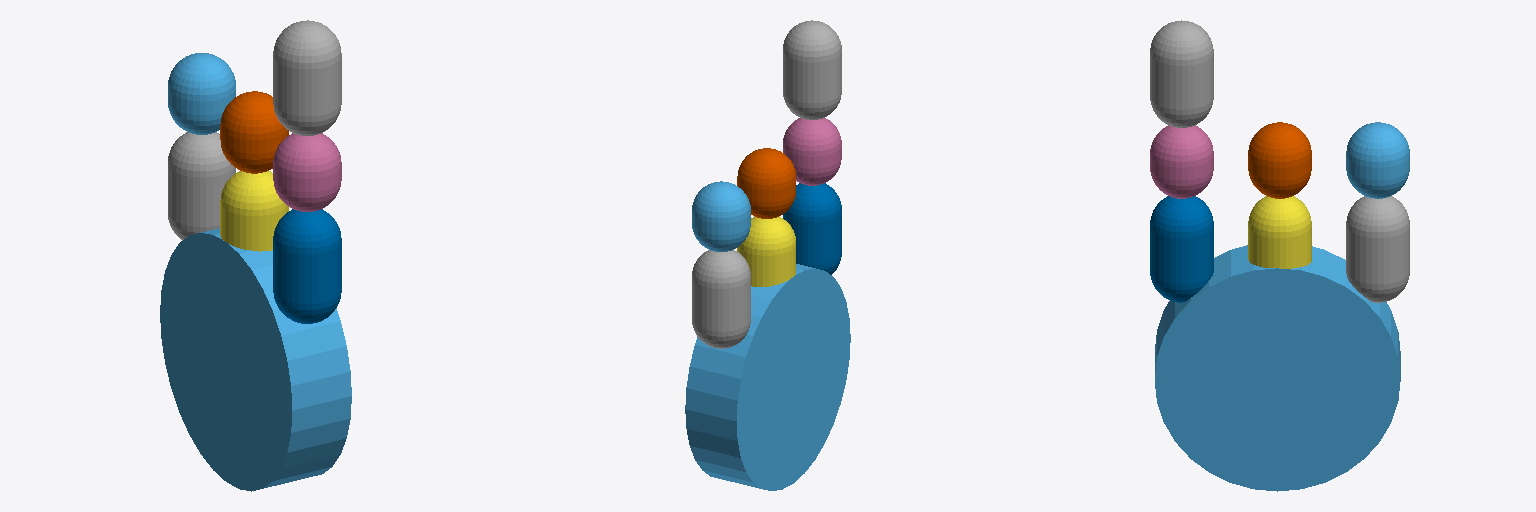
URDF robot description (DexterousHand):
<?xml version="1.0"?>
<robot name="DexterousHand">


    <link name="world"/>
    <joint name="world_to_palm" type="fixed">
        <parent link="world"/>
        <child link="palm"/>
        <origin xyz="0 0 0" rpy="0 0 0"/>
    </joint>
    <link name="palm">
        <inertial>
            <origin xyz="0 0 0.057" rpy="0 0 0"/>
            <mass value="0.30212892864"/>
            <inertia ixx="0.00049080844457568" ixy="0.0" ixz="0.0" iyy="0.00026746366246427523" iyz="0.0" izz="0.00026746366246427523"/>
        </inertial>
        <visual>
            <origin xyz="0 0 0.057" rpy="1.5708 0 1.5708"/>
            <geometry>
                <cylinder radius="0.057" length="0.0296"/>
            </geometry>
            <material name="default"/>
        </visual>
        <collision>
            <origin xyz="0 0 0.057" rpy="1.5708 0 1.5708"/>
            <geometry>
                <cylinder radius="0.057" length="0.0296"/>
            </geometry>
        </collision>
    </link>

    
    <joint name="thumb_joint1" type="revolute">
        <parent link="palm"/>
        <child link="thumb_base"/>
        <origin xyz="0.0 0.0 0.0" rpy="0.0 0.0 0.0"/>
        <axis xyz="1 0 0"/>
        <limit lower="0.0" upper="0.0" effort="1.0" velocity="1.0"/>
    </joint>

    <link name="thumb_base"></link>

    <joint name="thumb_joint2" type="revolute">
        <parent link="thumb_base"/>
        <child link="thumb_proximal"/>
        <origin xyz="0.0 0.0 0.0" rpy="0.0 0.0 0.0"/>
        <axis xyz="0 1 0"/>
        <limit lower="0.0" upper="0.0" effort="1.0" velocity="1.0"/>
    </joint>

    <link name="thumb_proximal">
    </link>

    <joint name="thumb_joint3" type="revolute">
        <parent link="thumb_proximal"/>
        <child link="thumb_knuckle"/>
        <origin xyz="0.0 0.0 0.0" rpy="0.0 0.0 0.0"/>
        <axis xyz="1 0 0"/>
        <limit lower="0.0" upper="0.0" effort="1.0" velocity="1.0"/>
    </joint>

    <link name="thumb_knuckle"></link>

    <joint name="thumb_joint4" type="revolute">
        <parent link="thumb_knuckle"/>
        <child link="thumb_middle"/>
        <origin xyz="0 0 0" rpy="0 0 0"/> 
        <axis xyz="0 1 0"/>
        <limit lower="0.0" upper="0.0" effort="1.0" velocity="1.0"/>
    </joint>

    <link name="thumb_middle">
    </link>

    <joint name="thumb_joint5" type="revolute">
        <parent link="thumb_middle"/>
        <child link="thumb_distal"/>
        <origin xyz="0 0 0" rpy="0 0 0"/> 
        <axis xyz="0 1 0"/>
        <limit lower="0.0" upper="0.0" effort="1.0" velocity="1.0"/>
    </joint>

    <link name="thumb_distal">
    </link>

    
    <joint name="index_joint1" type="revolute">
        <parent link="palm"/>
        <child link="index_proximal"/>
        <origin xyz="0.0 0.0465 0.091" rpy="0.0 0.0 0.0"/>
        <axis xyz="0 1 0"/>
        <limit lower="-0.314" upper="2.23" effort="1.0" velocity="1.0"/>
    </joint>

    <link name="index_proximal">
        <inertial>
            <origin xyz="0 0 0.02655" rpy="0 0 0"/>
            <mass value="0.036540024998400006"/>
            <inertia ixx="1.058665009272394e-05" ixy="0.0" ixz="0.0" 
            iyy="1.058665009272394e-05" iyz="0.0" izz="4.001863537824769e-06"/>
        </inertial>
        <visual>
            <origin xyz="0 0 0.02655" rpy="0 0 0"/>
            <geometry>
                <cylinder radius="0.0148" length="0.0235"/>
            </geometry>
            <material name="default"/>
        </visual>
        <visual>
            <origin xyz="0 0 0.0148" rpy="0 0 0"/>
            <geometry>
                <sphere radius="0.0148"/>
            </geometry>
            <material name="default"/>
        </visual>
        <visual>
            <origin xyz="0 0 0.0383" rpy="0 0 0"/>
            <geometry>
                <sphere radius="0.0148"/>
            </geometry>
            <material name="default"/>
        </visual>
        <collision>
            <origin xyz="0 0 0.02655" rpy="0 0 0"/>
            <geometry>
                <cylinder radius="0.0148" length="0.0235"/>
            </geometry>
        </collision>
        <collision>
            <origin xyz="0 0 0.0148" rpy="0 0 0"/>
            <geometry>
                <sphere radius="0.0148"/>
            </geometry>
        </collision>
        <collision>
            <origin xyz="0 0 0.0383" rpy="0 0 0"/>
            <geometry>
                <sphere radius="0.0148"/>
            </geometry>
        </collision>
    </link>

    <joint name="index_joint2" type="revolute">
        <parent link="index_proximal"/>
        <child link="index_dummy"/>
        <origin xyz="0.0 0.0 0.038" rpy="0.0 0.0 0.0"/>
        <axis xyz="1 0 0"/>
        <limit lower="-1.047" upper="1.047" effort="1.0" velocity="1.0"/>
    </joint>

    <link name="index_dummy"></link>

    <joint name="index_joint3" type="revolute">
        <parent link="index_dummy"/>
        <child link="index_middle"/>
        <origin xyz="0 0 0.015100000000000002" rpy="0 0 0"/>
        <axis xyz="0 1 0"/>
        <limit lower="-0.506" upper="1.885" effort="1.0" velocity="1.0"/>
    </joint>

    <link name="index_middle">
        <inertial>
            <origin xyz="0 0 0.01805" rpy="0 0 0"/>
            <mass value="0.0248417119104"/>
            <inertia ixx="4.058162759109537e-06" ixy="0.0" ixz="0.0" 
            iyy="4.058162759109537e-06" iyz="0.0" izz="2.7206642884270085e-06"/>
        </inertial>
        <visual>
            <origin xyz="0 0 0.01805" rpy="0 0 0"/>
            <geometry>
                <cylinder radius="0.0148" length="0.006499999999999999"/>
            </geometry>
            <material name="default"/>
        </visual>
        <visual>
            <origin xyz="0 0 0.0148" rpy="0 0 0"/>
            <geometry>
                <sphere radius="0.0148"/>
            </geometry>
            <material name="default"/>
        </visual>
        <visual>
            <origin xyz="0 0 0.0213" rpy="0 0 0"/>
            <geometry>
                <sphere radius="0.0148"/>
            </geometry>
            <material name="default"/>
        </visual>
        <collision>
            <origin xyz="0 0 0.01805" rpy="0 0 0"/>
            <geometry>
                <cylinder radius="0.0148" length="0.006499999999999999"/>
            </geometry>
        </collision>
        <collision>
            <origin xyz="0 0 0.0148" rpy="0 0 0"/>
            <geometry>
                <sphere radius="0.0148"/>
            </geometry>
        </collision>
        <collision>
            <origin xyz="0 0 0.0213" rpy="0 0 0"/>
            <geometry>
                <sphere radius="0.0148"/>
            </geometry>
        </collision>
    </link>

    <joint name="index_joint4" type="revolute">
        <parent link="index_middle"/>
        <child link="index_distal"/>
        <origin xyz="0 0 0.0361" rpy="0 0 0"/> 
        <axis xyz="0 1 0"/>
        <limit lower="0.0" upper="0.0" effort="1.0" velocity="1.0"/>
    </joint>

    <link name="index_distal">
    </link>

    
    <joint name="middle_joint1" type="revolute">
        <parent link="palm"/>
        <child link="middle_proximal"/>
        <origin xyz="0.0 0.0011 0.091" rpy="0.0 0.0 0.0"/>
        <axis xyz="0 1 0"/>
        <limit lower="-0.314" upper="2.23" effort="1.0" velocity="1.0"/>
    </joint>

    <link name="middle_proximal">
        <inertial>
            <origin xyz="0 0 0.02655" rpy="0 0 0"/>
            <mass value="0.036540024998400006"/>
            <inertia ixx="1.058665009272394e-05" ixy="0.0" ixz="0.0" 
            iyy="1.058665009272394e-05" iyz="0.0" izz="4.001863537824769e-06"/>
        </inertial>
        <visual>
            <origin xyz="0 0 0.02655" rpy="0 0 0"/>
            <geometry>
                <cylinder radius="0.0148" length="0.0235"/>
            </geometry>
            <material name="default"/>
        </visual>
        <visual>
            <origin xyz="0 0 0.0148" rpy="0 0 0"/>
            <geometry>
                <sphere radius="0.0148"/>
            </geometry>
            <material name="default"/>
        </visual>
        <visual>
            <origin xyz="0 0 0.0383" rpy="0 0 0"/>
            <geometry>
                <sphere radius="0.0148"/>
            </geometry>
            <material name="default"/>
        </visual>
        <collision>
            <origin xyz="0 0 0.02655" rpy="0 0 0"/>
            <geometry>
                <cylinder radius="0.0148" length="0.0235"/>
            </geometry>
        </collision>
        <collision>
            <origin xyz="0 0 0.0148" rpy="0 0 0"/>
            <geometry>
                <sphere radius="0.0148"/>
            </geometry>
        </collision>
        <collision>
            <origin xyz="0 0 0.0383" rpy="0 0 0"/>
            <geometry>
                <sphere radius="0.0148"/>
            </geometry>
        </collision>
    </link>

    <joint name="middle_joint2" type="revolute">
        <parent link="middle_proximal"/>
        <child link="middle_dummy"/>
        <origin xyz="0.0 0.0 0.038" rpy="0.0 0.0 0.0"/>
        <axis xyz="1 0 0"/>
        <limit lower="-1.047" upper="1.047" effort="1.0" velocity="1.0"/>
    </joint>

    <link name="middle_dummy"></link>

    <joint name="middle_joint3" type="revolute">
        <parent link="middle_dummy"/>
        <child link="middle_middle"/>
        <origin xyz="0 0 0.015100000000000002" rpy="0 0 0"/>
        <axis xyz="0 1 0"/>
        <limit lower="-0.506" upper="1.885" effort="1.0" velocity="1.0"/>
    </joint>

    <link name="middle_middle">
        <inertial>
            <origin xyz="0 0 0.01805" rpy="0 0 0"/>
            <mass value="0.0248417119104"/>
            <inertia ixx="4.058162759109537e-06" ixy="0.0" ixz="0.0" 
            iyy="4.058162759109537e-06" iyz="0.0" izz="2.7206642884270085e-06"/>
        </inertial>
        <visual>
            <origin xyz="0 0 0.01805" rpy="0 0 0"/>
            <geometry>
                <cylinder radius="0.0148" length="0.006499999999999999"/>
            </geometry>
            <material name="default"/>
        </visual>
        <visual>
            <origin xyz="0 0 0.0148" rpy="0 0 0"/>
            <geometry>
                <sphere radius="0.0148"/>
            </geometry>
            <material name="default"/>
        </visual>
        <visual>
            <origin xyz="0 0 0.0213" rpy="0 0 0"/>
            <geometry>
                <sphere radius="0.0148"/>
            </geometry>
            <material name="default"/>
        </visual>
        <collision>
            <origin xyz="0 0 0.01805" rpy="0 0 0"/>
            <geometry>
                <cylinder radius="0.0148" length="0.006499999999999999"/>
            </geometry>
        </collision>
        <collision>
            <origin xyz="0 0 0.0148" rpy="0 0 0"/>
            <geometry>
                <sphere radius="0.0148"/>
            </geometry>
        </collision>
        <collision>
            <origin xyz="0 0 0.0213" rpy="0 0 0"/>
            <geometry>
                <sphere radius="0.0148"/>
            </geometry>
        </collision>
    </link>

    <joint name="middle_joint4" type="revolute">
        <parent link="middle_middle"/>
        <child link="middle_distal"/>
        <origin xyz="0 0 0.0361" rpy="0 0 0"/> 
        <axis xyz="0 1 0"/>
        <limit lower="0.0" upper="0.0" effort="1.0" velocity="1.0"/>
    </joint>

    <link name="middle_distal">
    </link>

    
    <joint name="ring_joint1" type="revolute">
        <parent link="palm"/>
        <child link="ring_proximal"/>
        <origin xyz="0.0 0.0 0.0" rpy="0.0 0.0 0.0"/>
        <axis xyz="1 0 0"/>
        <limit lower="0.0" upper="0.0" effort="1.0" velocity="1.0"/>
    </joint>

    <link name="ring_proximal">
    </link>

    <joint name="ring_joint2" type="revolute">
        <parent link="ring_proximal"/>
        <child link="ring_dummy"/>
        <origin xyz="0.0 0.0 0.0" rpy="0.0 0.0 0.0"/>
        <axis xyz="0 1 0"/>
        <limit lower="0.0" upper="0.0" effort="1.0" velocity="1.0"/>
    </joint>

    <link name="ring_dummy"></link>

    <joint name="ring_joint3" type="revolute">
        <parent link="ring_dummy"/>
        <child link="ring_middle"/>
        <origin xyz="0 0 0" rpy="0 0 0"/>
        <axis xyz="0 1 0"/>
        <limit lower="0.0" upper="0.0" effort="1.0" velocity="1.0"/>
    </joint>

    <link name="ring_middle">
    </link>

    <joint name="ring_joint4" type="revolute">
        <parent link="ring_middle"/>
        <child link="ring_distal"/>
        <origin xyz="0 0 0" rpy="0 0 0"/> 
        <axis xyz="0 1 0"/>
        <limit lower="0.0" upper="0.0" effort="1.0" velocity="1.0"/>
    </joint>

    <link name="ring_distal">
    </link>

    
    <joint name="little_joint0" type="revolute">
        <parent link="palm"/>
        <child link="little_base"/>
        <origin xyz="0.0 0.0 0.0" rpy="0.0 0.0 0.0"/>
        <axis xyz="0 1 0"/>
        <limit lower="0.0" upper="0.0" effort="1.0" velocity="1.0"/>
    </joint>

    <link name="little_base"></link>

    <joint name="little_joint1" type="revolute">
        <parent link="little_base"/>
        <child link="little_proximal"/>
        <origin xyz="0.0 -0.0443 0.091" rpy="-0.0 -0.0 -0.0"/>
        <axis xyz="0 1 0"/>
        <limit lower="-0.314" upper="2.23" effort="1.0" velocity="1.0"/>
    </joint>

    <link name="little_proximal">
        <inertial>
            <origin xyz="0 0 0.02655" rpy="0 0 0"/>
            <mass value="0.036540024998400006"/>
            <inertia ixx="1.058665009272394e-05" ixy="0.0" ixz="0.0" 
            iyy="1.058665009272394e-05" iyz="0.0" izz="4.001863537824769e-06"/>
        </inertial>
        <visual>
            <origin xyz="0 0 0.02655" rpy="0 0 0"/>
            <geometry>
                <cylinder radius="0.0148" length="0.0235"/>
            </geometry>
            <material name="default"/>
        </visual>
        <visual>
            <origin xyz="0 0 0.0148" rpy="0 0 0"/>
            <geometry>
                <sphere radius="0.0148"/>
            </geometry>
            <material name="default"/>
        </visual>
        <visual>
            <origin xyz="0 0 0.0383" rpy="0 0 0"/>
            <geometry>
                <sphere radius="0.0148"/>
            </geometry>
            <material name="default"/>
        </visual>
        <collision>
            <origin xyz="0 0 0.02655" rpy="0 0 0"/>
            <geometry>
                <cylinder radius="0.0148" length="0.0235"/>
            </geometry>
        </collision>
        <collision>
            <origin xyz="0 0 0.0148" rpy="0 0 0"/>
            <geometry>
                <sphere radius="0.0148"/>
            </geometry>
        </collision>
        <collision>
            <origin xyz="0 0 0.0383" rpy="0 0 0"/>
            <geometry>
                <sphere radius="0.0148"/>
            </geometry>
        </collision>
    </link>

    <joint name="little_joint2" type="revolute">
        <parent link="little_proximal"/>
        <child link="little_dummy"/>
        <origin xyz="0.0 0.0 0.038" rpy="0.0 0.0 0.0"/>
        <axis xyz="1 0 0"/>
        <limit lower="-1.047" upper="1.047" effort="1.0" velocity="1.0"/>
    </joint>

    <link name="little_dummy"></link>

    <joint name="little_joint3" type="revolute">
        <parent link="little_dummy"/>
        <child link="little_middle"/>
        <origin xyz="0 0 0.015100000000000002" rpy="0 0 0"/>
        <axis xyz="0 1 0"/>
        <limit lower="-0.506" upper="1.885" effort="1.0" velocity="1.0"/>
    </joint>

    <link name="little_middle">
        <inertial>
            <origin xyz="0 0 0.01805" rpy="0 0 0"/>
            <mass value="0.0248417119104"/>
            <inertia ixx="4.058162759109537e-06" ixy="0.0" ixz="0.0" 
            iyy="4.058162759109537e-06" iyz="0.0" izz="2.7206642884270085e-06"/>
        </inertial>
        <visual>
            <origin xyz="0 0 0.01805" rpy="0 0 0"/>
            <geometry>
                <cylinder radius="0.0148" length="0.006499999999999999"/>
            </geometry>
            <material name="default"/>
        </visual>
        <visual>
            <origin xyz="0 0 0.0148" rpy="0 0 0"/>
            <geometry>
                <sphere radius="0.0148"/>
            </geometry>
            <material name="default"/>
        </visual>
        <visual>
            <origin xyz="0 0 0.0213" rpy="0 0 0"/>
            <geometry>
                <sphere radius="0.0148"/>
            </geometry>
            <material name="default"/>
        </visual>
        <collision>
            <origin xyz="0 0 0.01805" rpy="0 0 0"/>
            <geometry>
                <cylinder radius="0.0148" length="0.006499999999999999"/>
            </geometry>
        </collision>
        <collision>
            <origin xyz="0 0 0.0148" rpy="0 0 0"/>
            <geometry>
                <sphere radius="0.0148"/>
            </geometry>
        </collision>
        <collision>
            <origin xyz="0 0 0.0213" rpy="0 0 0"/>
            <geometry>
                <sphere radius="0.0148"/>
            </geometry>
        </collision>
    </link>

    <joint name="little_joint4" type="revolute">
        <parent link="little_middle"/>
        <child link="little_distal"/>
        <origin xyz="0 0 0.0361" rpy="0 0 0"/>
        <axis xyz="0 1 0"/>
        <limit lower="-0.366" upper="2.042" effort="1.0" velocity="1.0"/>
    </joint>

    <link name="little_distal">
        <inertial>
            <origin xyz="0 0 0.026" rpy="0 0 0"/>
            <mass value="0.035783075328"/>
            <inertia ixx="1.002260084553728e-05" ixy="0.0" ixz="0.0" 
            iyy="1.002260084553728e-05" iyz="0.0" izz="3.91896240992256e-06"/>
        </inertial>
        <visual>
            <origin xyz="0 0 0.026" rpy="0 0 0"/>
            <geometry>
                <cylinder radius="0.0148" length="0.022399999999999996"/>
            </geometry>
            <material name="default"/>
        </visual>
        <visual>
            <origin xyz="0 0 0.0148" rpy="0 0 0"/>
            <geometry>
                <sphere radius="0.0148"/>
            </geometry>
            <material name="default"/>
        </visual>
        <visual>
            <origin xyz="0 0 0.0372" rpy="0 0 0"/>
            <geometry>
                <sphere radius="0.0148"/>
            </geometry>
            <material name="default"/>
        </visual>
        <collision>
            <origin xyz="0 0 0.026" rpy="0 0 0"/>
            <geometry>
                <cylinder radius="0.0148" length="0.022399999999999996"/>
            </geometry>
        </collision>
        <collision>
            <origin xyz="0 0 0.0148" rpy="0 0 0"/>
            <geometry>
                <sphere radius="0.0148"/>
            </geometry>
        </collision>
        <collision>
            <origin xyz="0 0 0.0372" rpy="0 0 0"/>
            <geometry>
                <sphere radius="0.0148"/>
            </geometry>
        </collision>
    </link>

</robot>

--- Facts derived from the render (not from the file) ---
Views: 3 orthographic renders of the robot side by side, from view 1: azimuth 30°, elevation 25°; view 2: azimuth 150°, elevation 25°; view 3: azimuth 270°, elevation 25°.
Model DexterousHand with 24 links and 23 joints (22 revolute, 1 fixed), rooted at world, posed every joint at zero.
Visible links, largest first — view 1: palm, little_proximal, little_distal, index_proximal, little_middle, index_middle, middle_proximal, middle_middle; view 2: palm, index_proximal, little_distal, little_proximal, index_middle, middle_middle, little_middle, middle_proximal; view 3: palm, little_distal, index_proximal, little_proximal, middle_proximal, index_middle, middle_middle, little_middle.
Link boxes in pixels (x1,y1,x2,y2): palm: [160, 228, 351, 491]; little_proximal: [273, 209, 341, 323]; little_distal: [273, 20, 341, 135]; index_proximal: [168, 132, 235, 240]; little_middle: [273, 133, 341, 211]; index_middle: [168, 53, 235, 134]; middle_proximal: [220, 171, 288, 251]; middle_middle: [220, 91, 288, 173]; palm: [685, 264, 850, 490]; index_proximal: [692, 250, 750, 348]; little_distal: [783, 20, 841, 119]; little_proximal: [783, 183, 841, 274]; index_middle: [692, 181, 750, 251]; middle_middle: [737, 148, 795, 218]; little_middle: [783, 118, 841, 185]; middle_proximal: [737, 216, 795, 286]; palm: [1155, 245, 1400, 491]; little_distal: [1150, 20, 1213, 127]; index_proximal: [1346, 196, 1409, 302]; little_proximal: [1150, 196, 1213, 302]; middle_proximal: [1248, 196, 1311, 268]; index_middle: [1346, 122, 1409, 198]; middle_middle: [1248, 122, 1311, 198]; little_middle: [1150, 125, 1213, 198].
Size in the robot's own frame: 0.0296 by 0.1204 by 0.2322 metres.
Geometry: primitives only (box / cylinder / sphere), no mesh files.
